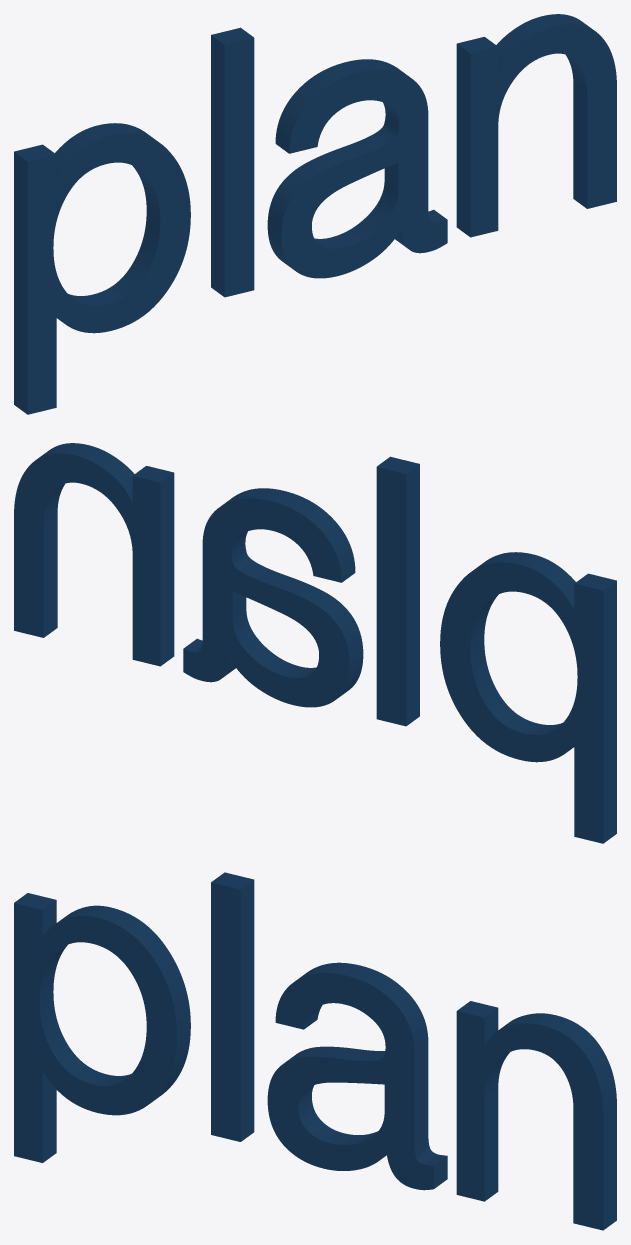
The model's file is plan.gltf.
3 renders of one model, top to bottom at view 1: azimuth 30°, elevation 25°; view 2: azimuth 150°, elevation 25°; view 3: azimuth 330°, elevation 25°, orthographic.
Size of the model in its own units: 2.47 by 1.29 by 0.1.
